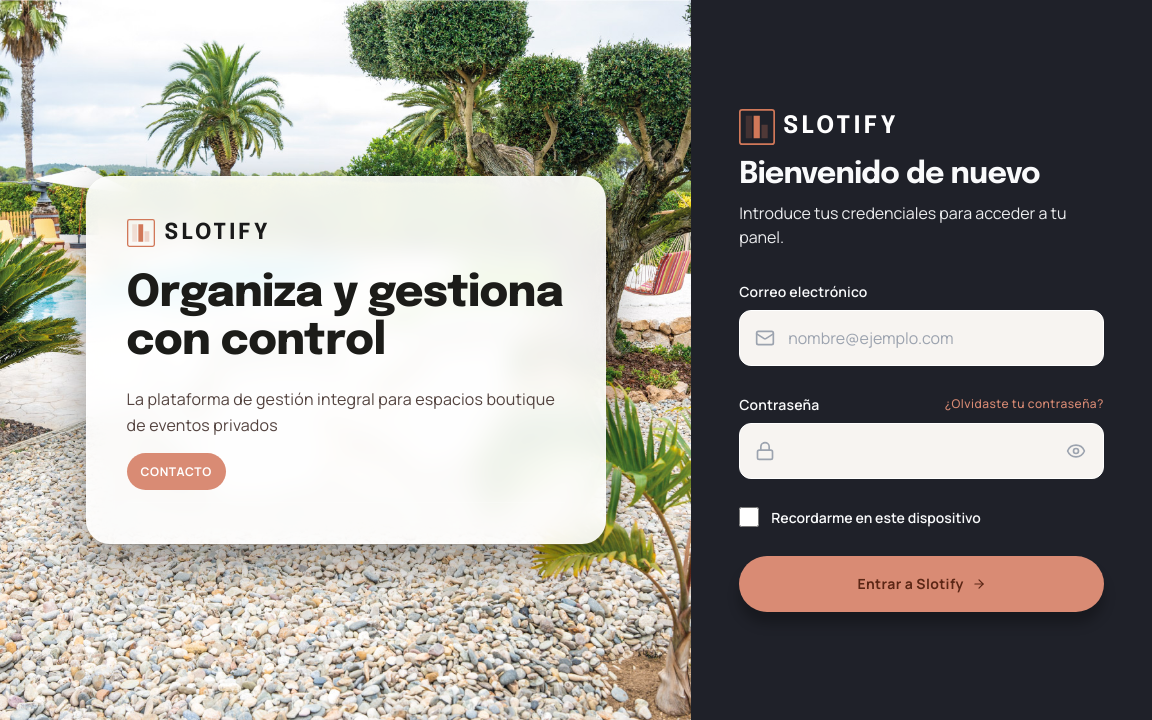
it: LoginPage — validación por campo sin llamar a la API (REQ 9) › debe_bloquear_el_envio_y_mostrar_error_cuando_el_email_tiene_formato_invalido
Type "esto-no-es-email" into the field labelled "Correo electrónico". click: (922, 338)
box: [739,310,1104,366]
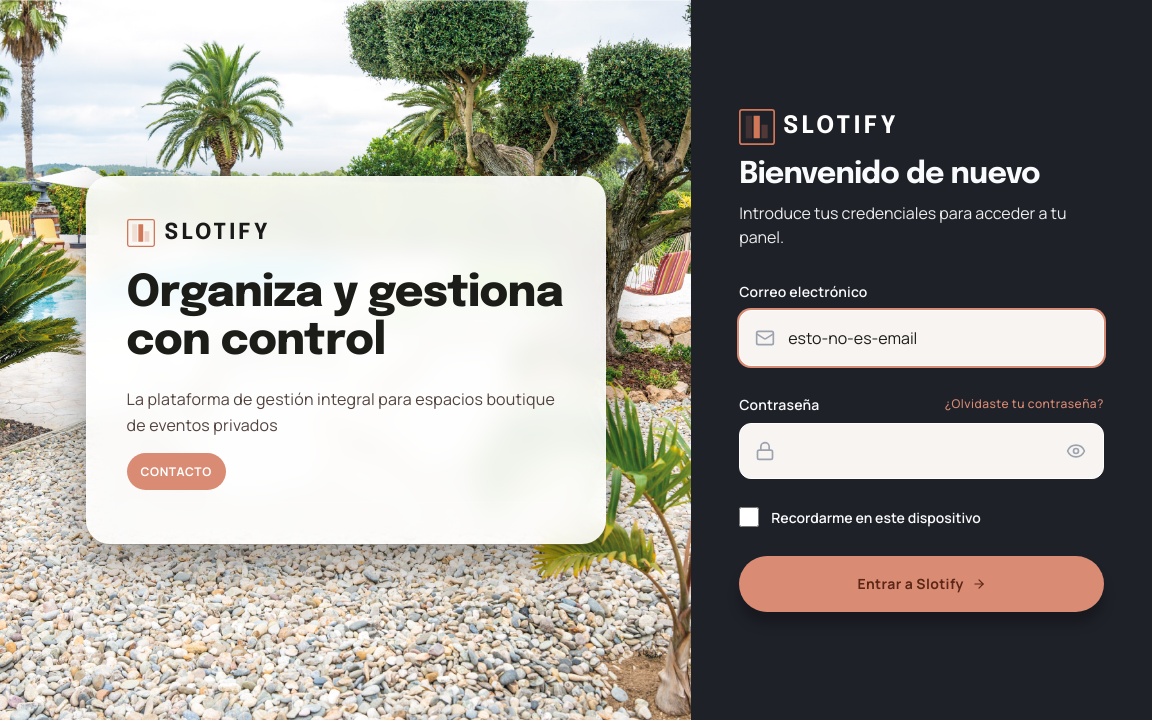
Type "Slotify2026!" into the password field labelled "Contraseña". click: (922, 450)
box: [739,422,1104,478]
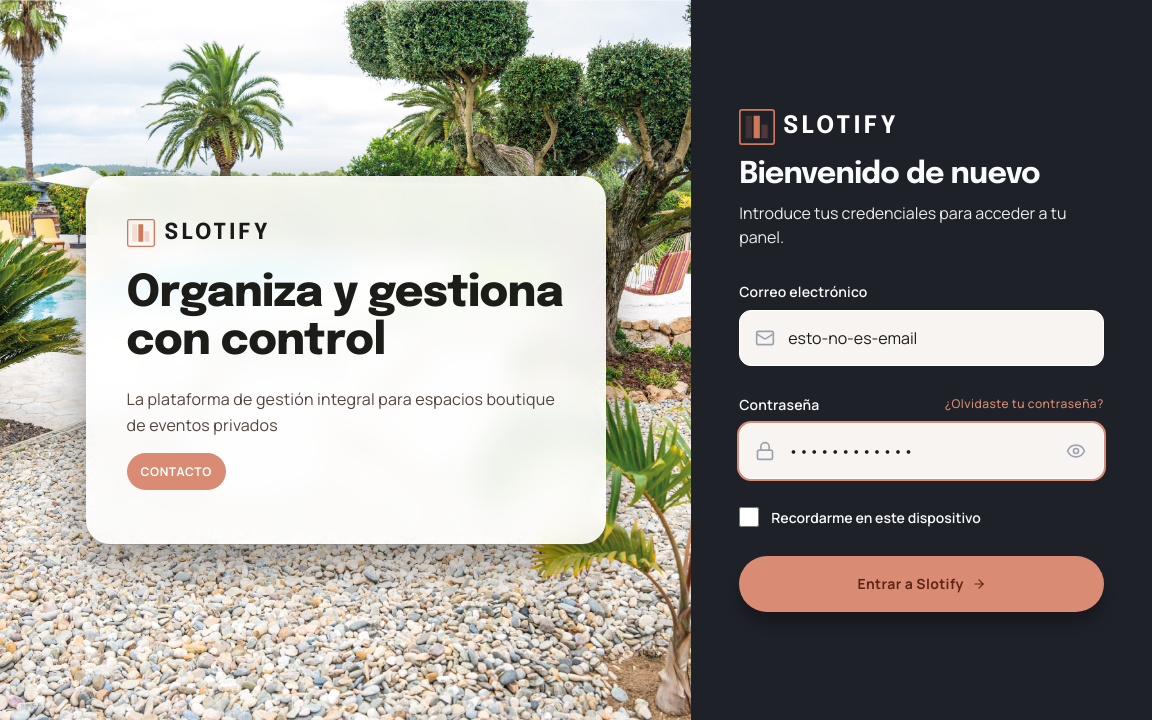
Click the button "Entrar a Slotify". click: (922, 584)
box: [739,556,1104,612]
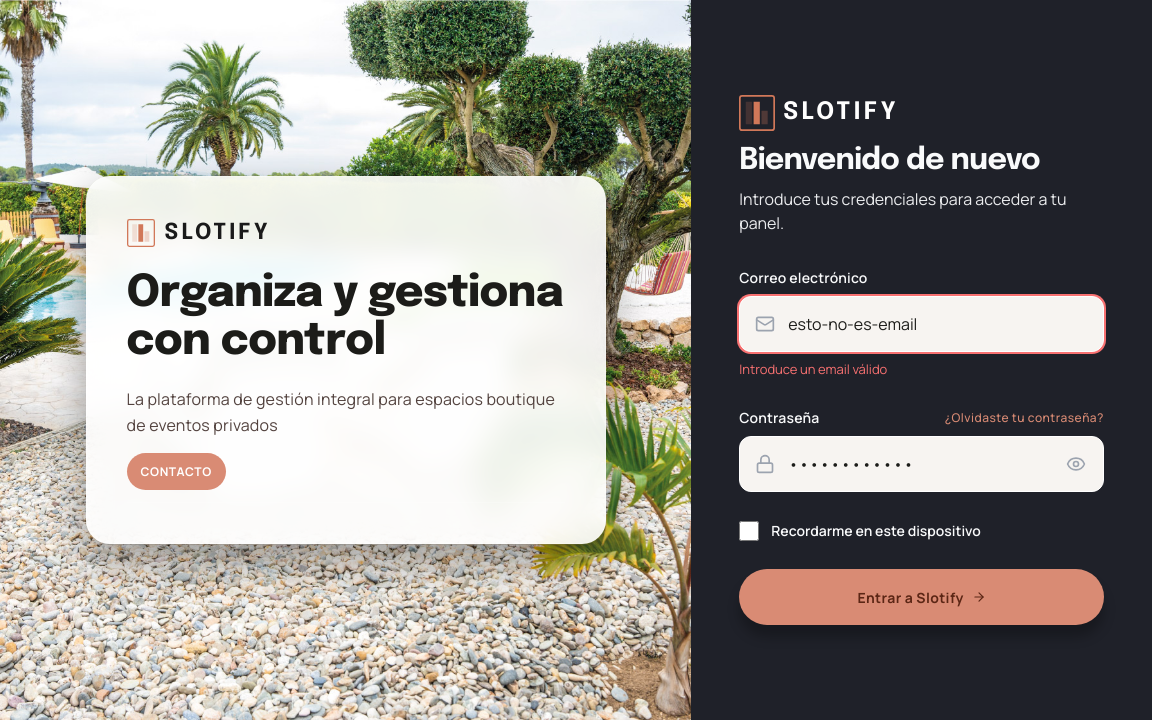
Expected: the text "Introduce un email válido" is shown, [739,360,887,378]
